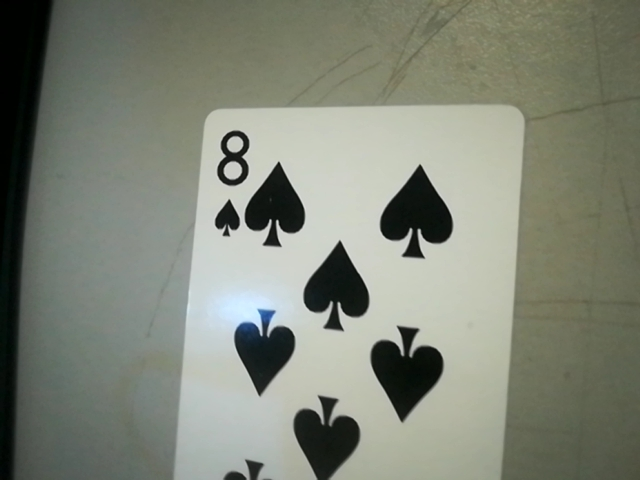ht 8: (202, 122, 261, 242)
